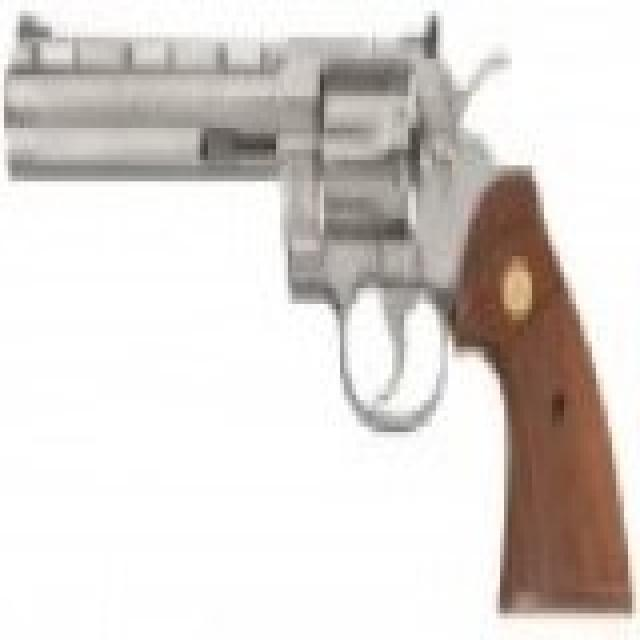gun: (8, 6, 632, 614)
